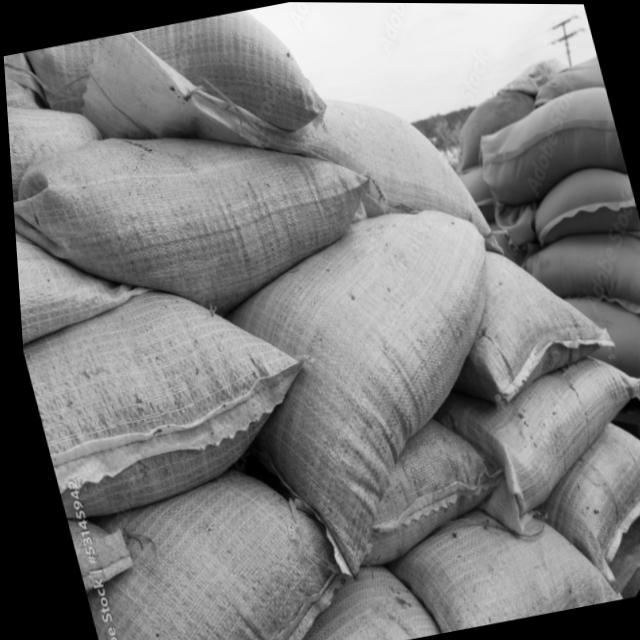sack: (192, 193, 557, 592), (5, 88, 398, 352), (14, 267, 325, 523), (21, 0, 333, 182), (54, 452, 353, 640), (269, 73, 500, 287), (424, 342, 640, 541), (372, 484, 615, 640), (417, 229, 619, 410), (318, 407, 512, 570), (512, 410, 640, 598), (464, 82, 629, 208), (510, 224, 640, 351), (557, 278, 640, 421), (515, 158, 639, 243), (437, 82, 547, 173)
